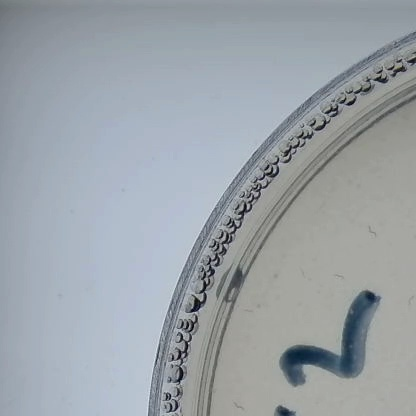worm: (238, 297, 266, 316), (232, 397, 251, 412), (331, 268, 351, 280), (402, 294, 416, 310), (366, 224, 381, 238), (296, 264, 312, 277)
